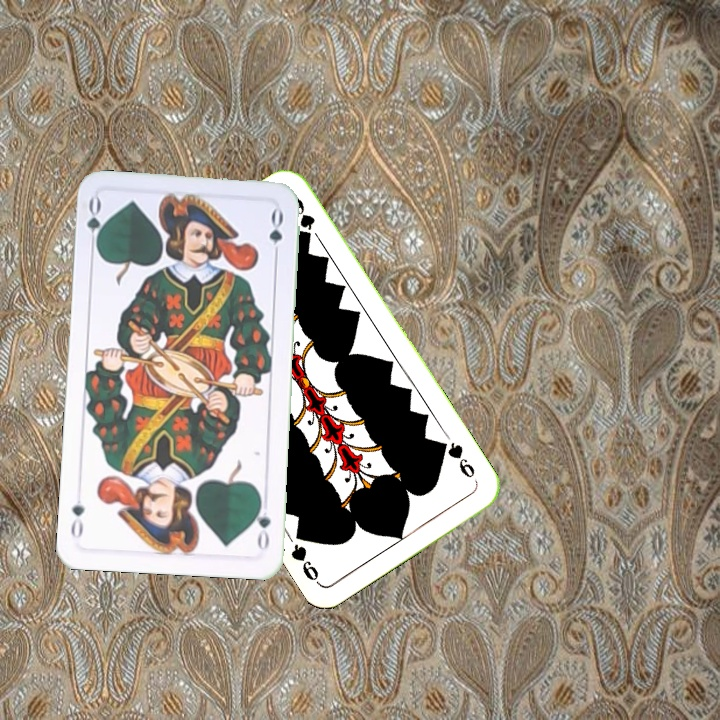G9: (435, 437, 478, 481)
GO: (83, 194, 108, 254), (250, 494, 274, 553)
